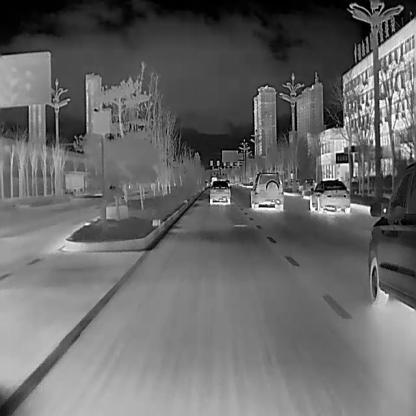car: (368, 162, 415, 310), (309, 179, 350, 213), (250, 171, 284, 209), (209, 180, 230, 204)
